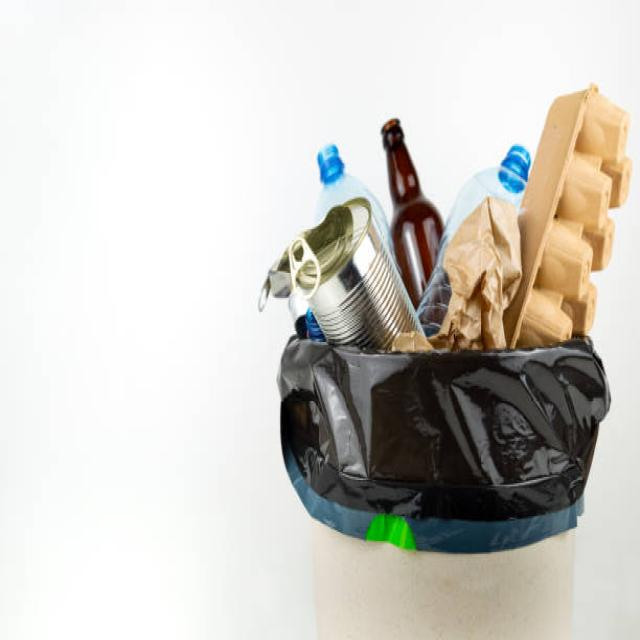cardboard: (527, 68, 638, 344)
metal: (266, 220, 429, 338)
